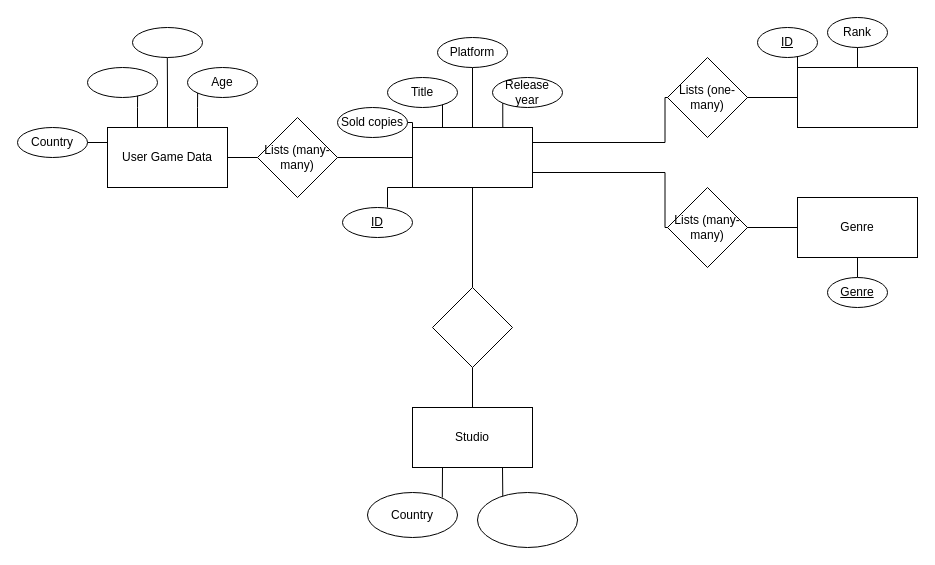
Some shapes in this 935 by 565 pixel diagram are drawn without their labels. Each missing label, with the box of its shape:
Game: (412, 126, 532, 188)
Gender: (132, 26, 202, 58)
NrOfEmployees: (476, 492, 578, 548)
Produces (many-many): (432, 286, 512, 368)
User rank: (796, 66, 918, 128)
Username: (86, 66, 158, 98)
